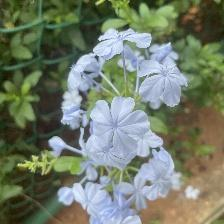chitrak: (90, 90, 149, 161), (140, 60, 191, 110), (93, 25, 154, 56)
